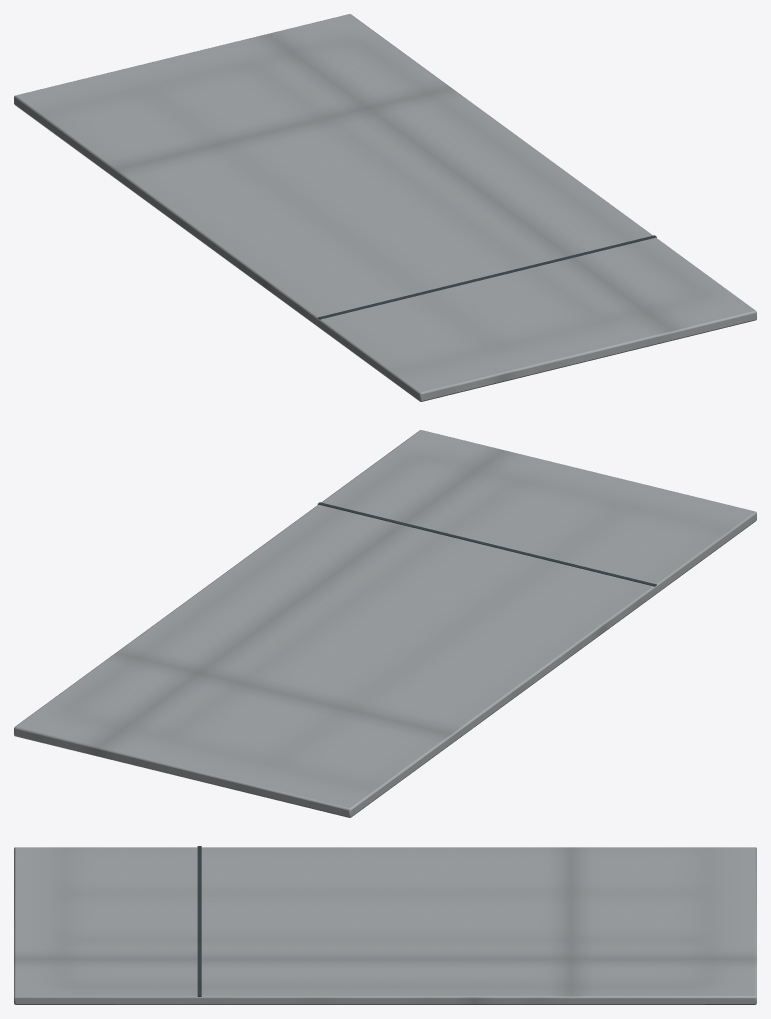
File: 10-right-toy-leg-course-1-2.fbx
3 views of the same model, one above another, from view 1: azimuth 30°, elevation 25°; view 2: azimuth 150°, elevation 25°; view 3: azimuth 270°, elevation 25° (orthographic). The views are drawn at different scales.
Visible parts, largest first — view 1: right-toy-leg-course-1-2; view 2: right-toy-leg-course-1-2; view 3: right-toy-leg-course-1-2.
Part boxes in pixels (x1,y1,x2,y2): right-toy-leg-course-1-2: (14,14,756,401); right-toy-leg-course-1-2: (14,430,756,817); right-toy-leg-course-1-2: (14,846,756,1004).
Size of the model in its own units: 4400 by 127 by 9200.
Materials: 1 (1 with a texture image).
